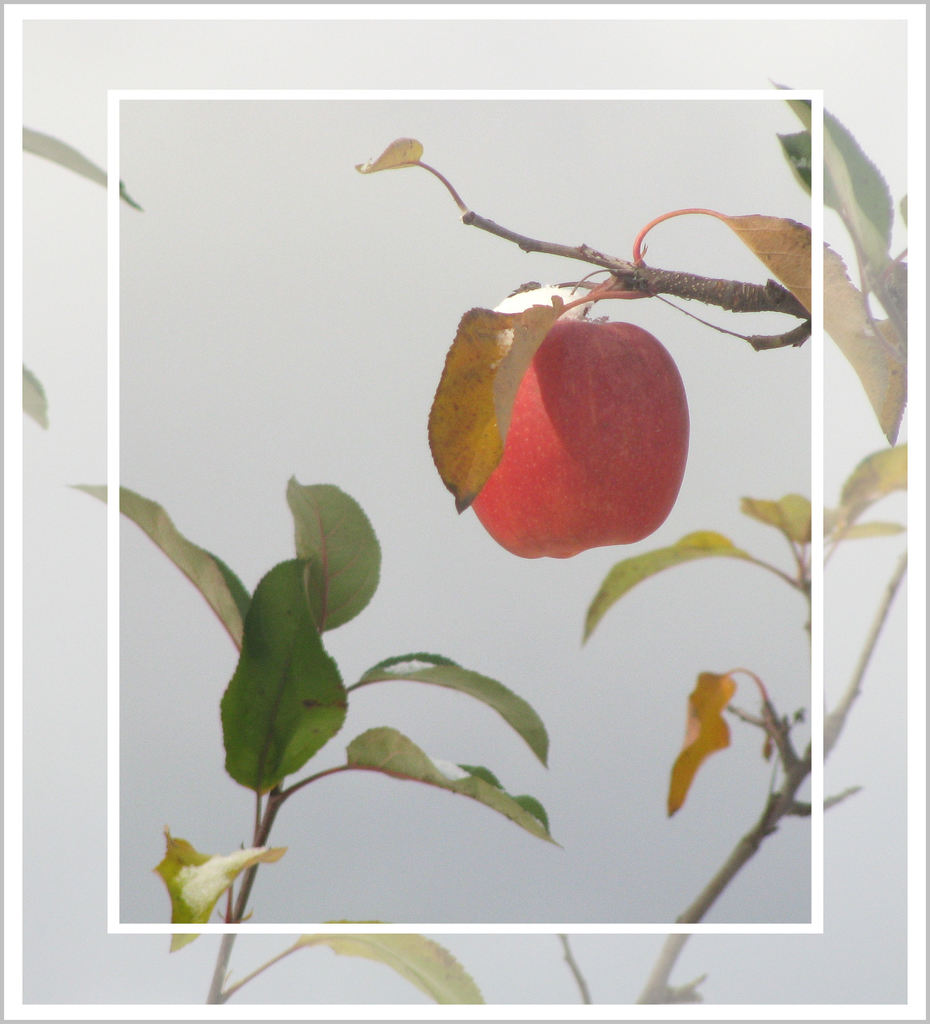Apple: (456, 299, 705, 562)
